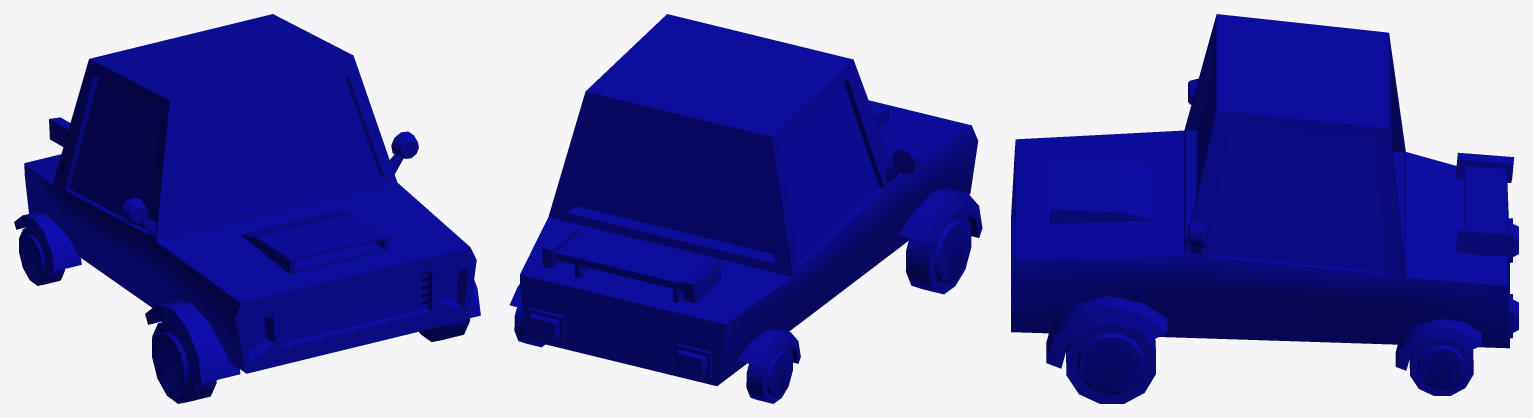
The model's file is Toy_Car02_001.fbx.
The picture shows the model from 3 angles, left to right: view 1: azimuth 30°, elevation 25°; view 2: azimuth 150°, elevation 25°; view 3: azimuth 270°, elevation 25°; orthographic projection. The views are drawn at different scales.
Parts seen in each view (by area): view 1: Toy_Car02_001; view 2: Toy_Car02_001; view 3: Toy_Car02_001.
Part boxes in pixels (bbox=[...]): Toy_Car02_001: bbox=[14, 14, 480, 403]; Toy_Car02_001: bbox=[509, 14, 982, 403]; Toy_Car02_001: bbox=[1011, 14, 1518, 403].
Size of the model in its own units: 43.59 by 35.62 by 60.71.
